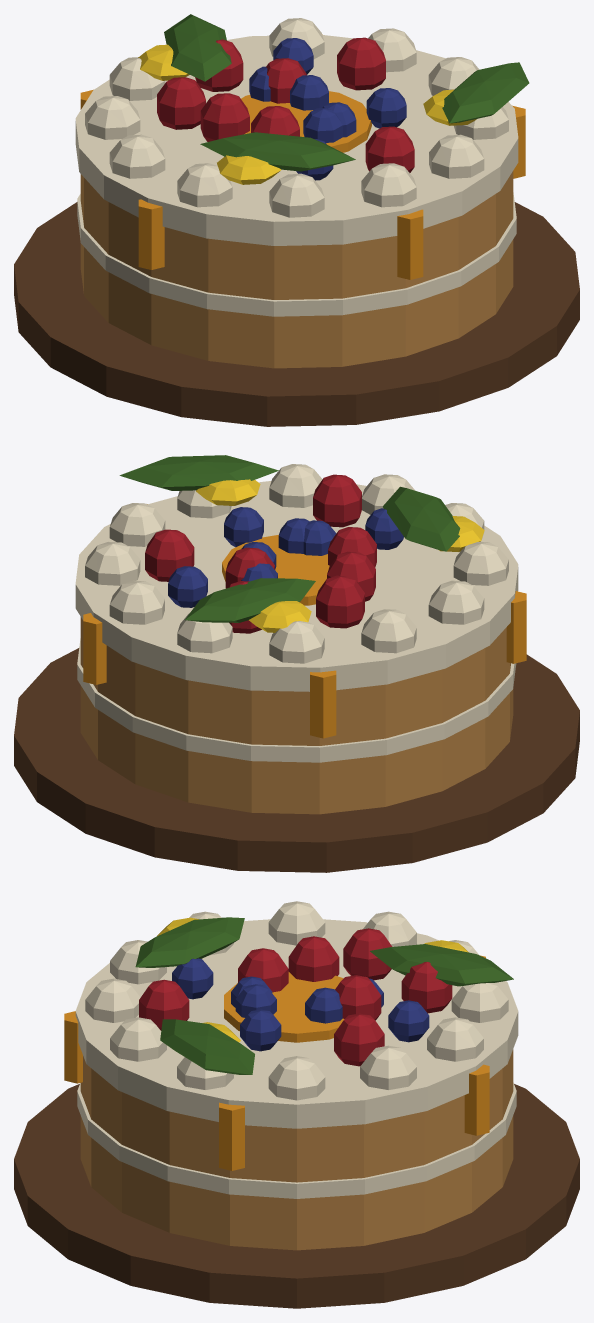
Rendered from VFP_MidsummerCake.obj.
The picture shows the model from 3 angles, top to bottom: view 1: azimuth 30°, elevation 25°; view 2: azimuth 150°, elevation 25°; view 3: azimuth 270°, elevation 25°; orthographic projection.
Visible parts, largest first — view 1: Cream, Board, Cake, Berries_rasp, Leaves, Honey, Berries, Flowers; view 2: Cream, Board, Cake, Berries_rasp, Leaves, Honey, Berries, Flowers; view 3: Cream, Board, Cake, Berries_rasp, Leaves, Honey, Berries, Flowers.
Boxes of the visible parts, bbox=[...] form: Cream: bbox=[75, 18, 518, 316]; Board: bbox=[14, 202, 579, 426]; Cake: bbox=[80, 171, 513, 368]; Berries_rasp: bbox=[157, 37, 414, 172]; Leaves: bbox=[164, 14, 529, 171]; Honey: bbox=[80, 34, 525, 279]; Berries: bbox=[249, 38, 406, 180]; Flowers: bbox=[138, 44, 476, 184]; Cream: bbox=[75, 464, 518, 762]; Board: bbox=[14, 648, 579, 872]; Cake: bbox=[80, 617, 513, 814]; Berries_rasp: bbox=[145, 474, 376, 633]; Leaves: bbox=[119, 455, 460, 622]; Honey: bbox=[83, 504, 526, 738]; Berries: bbox=[168, 507, 403, 607]; Flowers: bbox=[196, 479, 484, 632]; Cream: bbox=[75, 901, 518, 1198]; Board: bbox=[14, 1084, 579, 1308]; Cake: bbox=[80, 1049, 513, 1250]; Berries_rasp: bbox=[139, 928, 452, 1066]; Leaves: bbox=[135, 917, 513, 1074]; Honey: bbox=[64, 955, 489, 1170]; Berries: bbox=[172, 958, 429, 1051]; Flowers: bbox=[157, 917, 468, 1042].
Size of the model in its own units: 0.34 by 0.1475 by 0.34.
